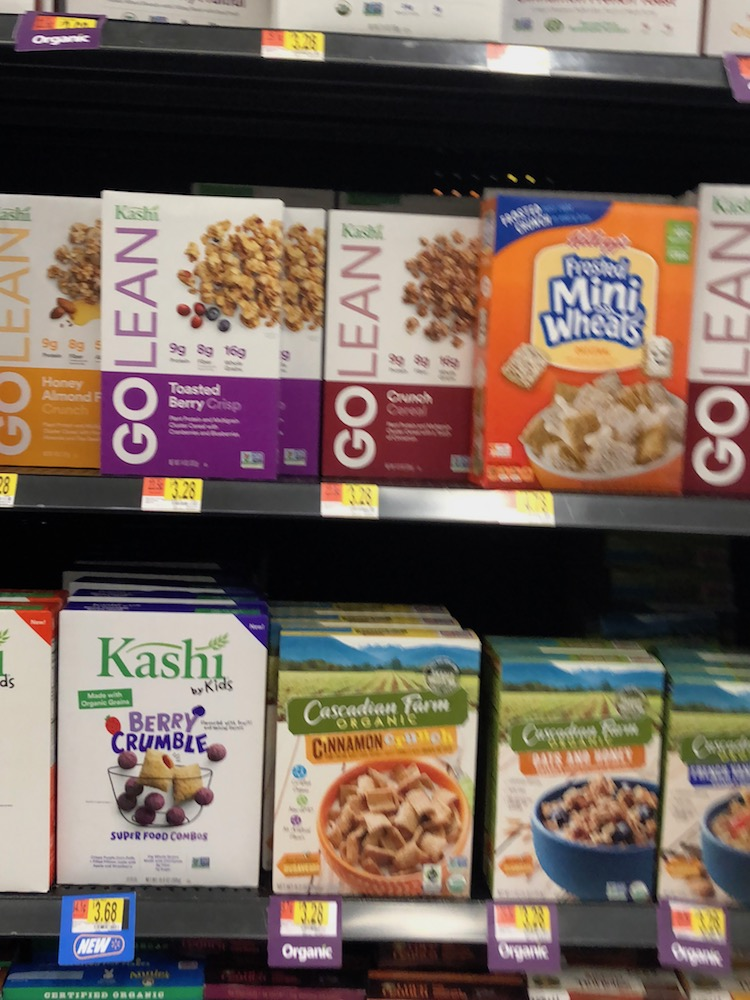Frosted Mini Original -9295869: (477, 186, 689, 498)
